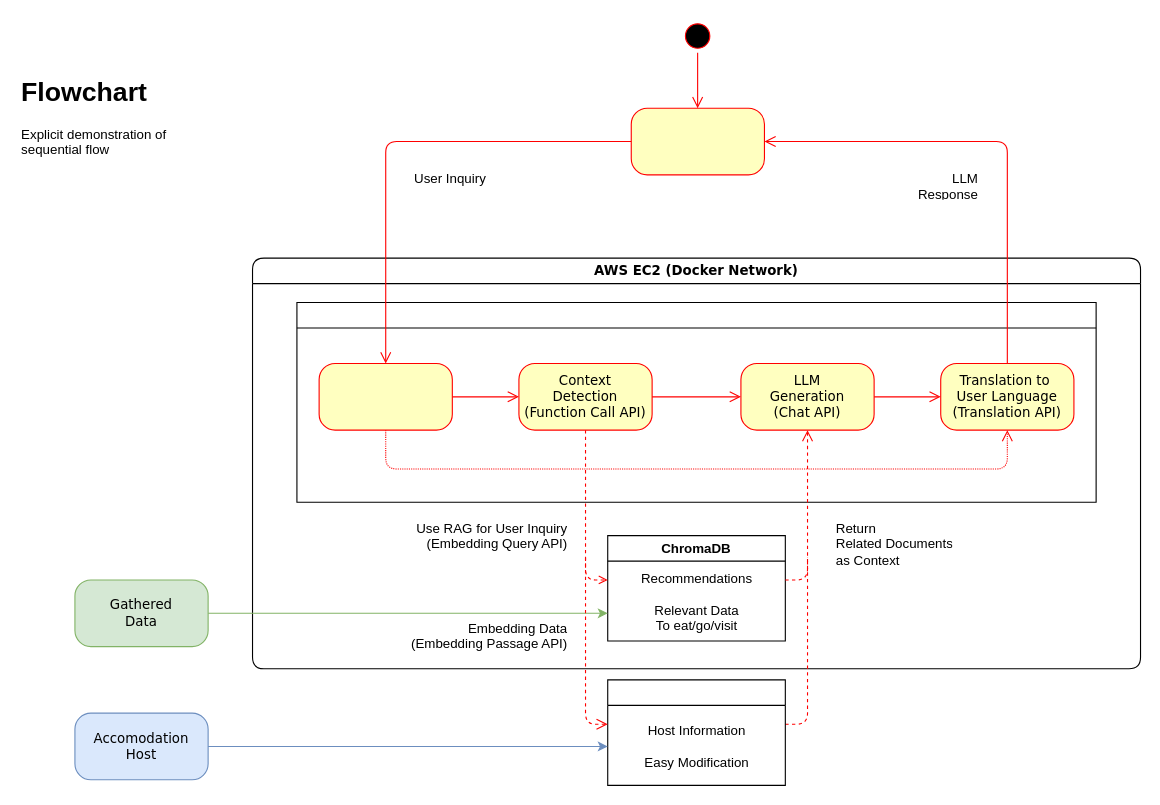
Image size: 1160x805. Some labels were removed from this diagram. The box of each missing label's shape, as (x1, y1, x2, y2) in pixels:
FastAPI Server: (296, 301, 1096, 502)
Google Docs: (607, 679, 785, 785)
KakaoTalk ChatBot: (630, 107, 764, 175)
Langauge Detection: (318, 362, 452, 430)
